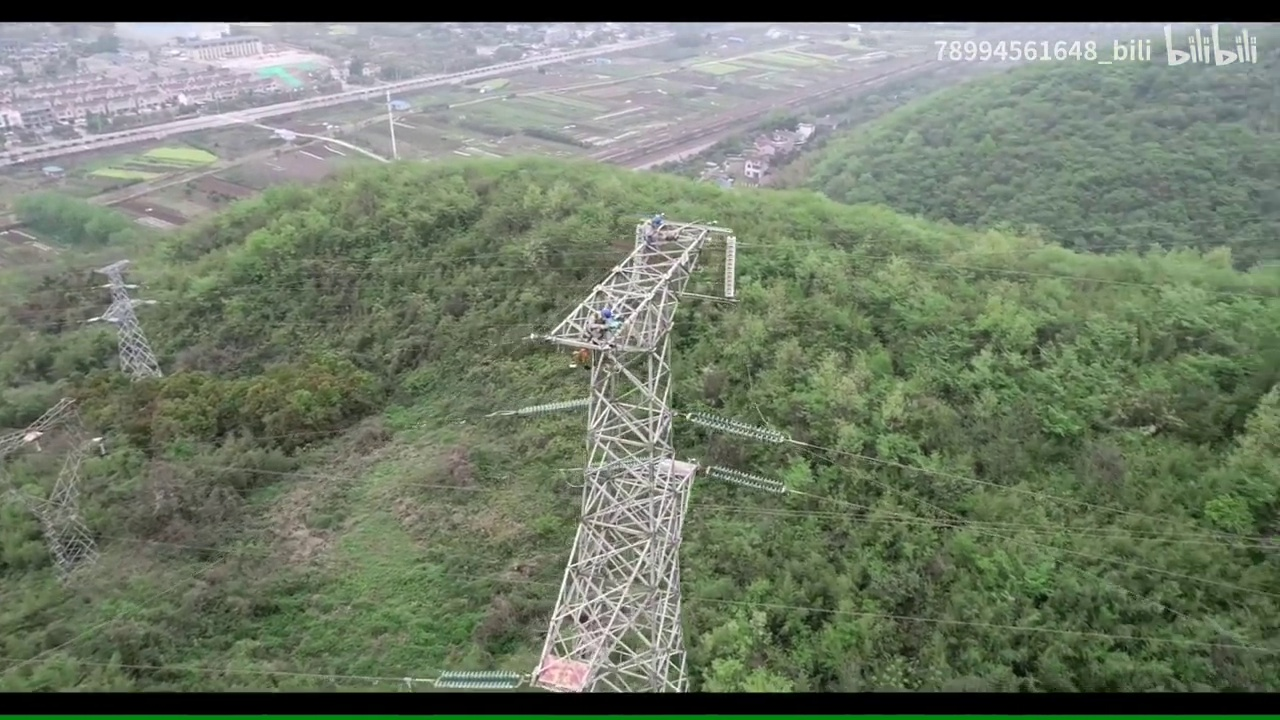tower_body: (513, 201, 748, 720), (1, 393, 101, 581), (85, 261, 159, 389)
tower_foot: (116, 351, 156, 383)
tower_head: (526, 209, 741, 362), (93, 259, 133, 281)
